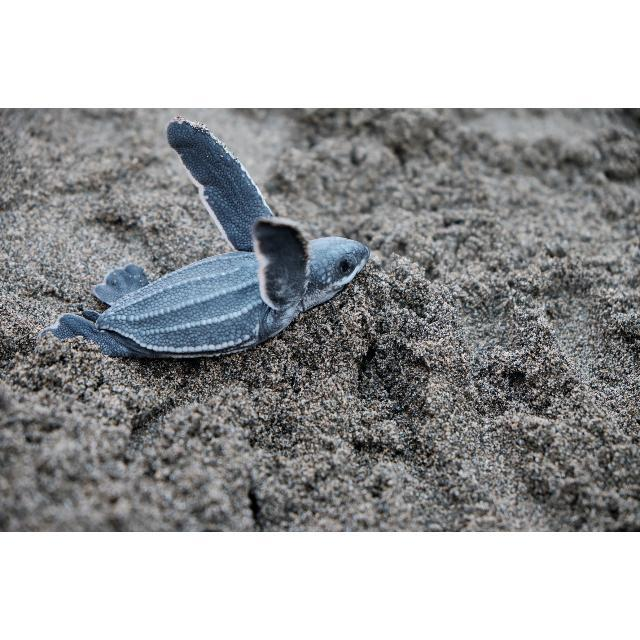turtle: (43, 115, 370, 361)
